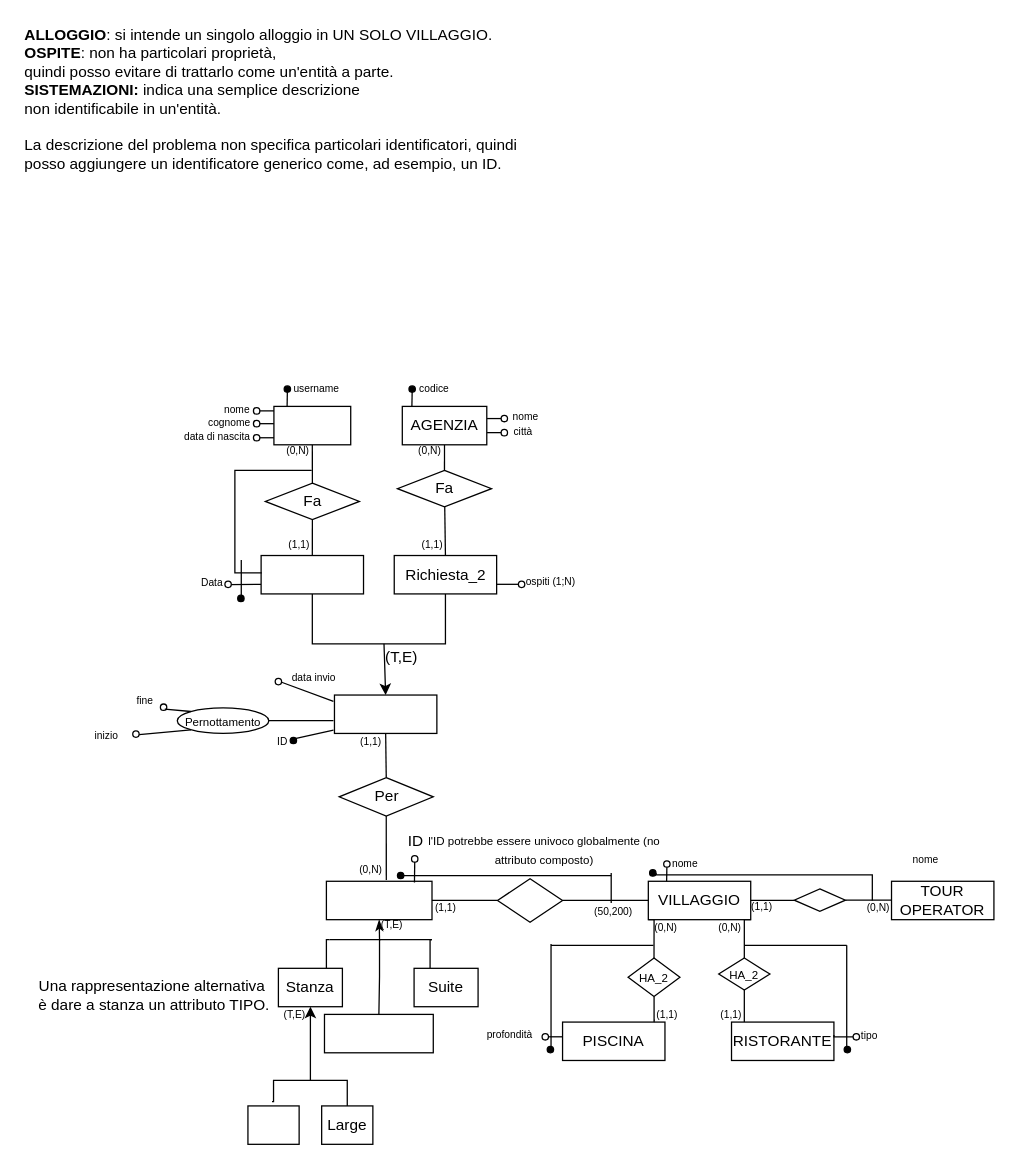
This 1016x1166 diagram has some shape labels left out. Each missing label, with the centre of its shape:
"ALLOGGIO" belongs at (x=378, y=900).
"Appartamento" belongs at (x=378, y=1033).
"dispone" belongs at (x=529, y=899).
"HA_1" belongs at (x=819, y=899).
"Richiesta" belongs at (x=385, y=713).
"Richiesta_1" belongs at (x=312, y=574).
"Small" belongs at (x=273, y=1124).
"UTENTE" belongs at (x=312, y=425).
